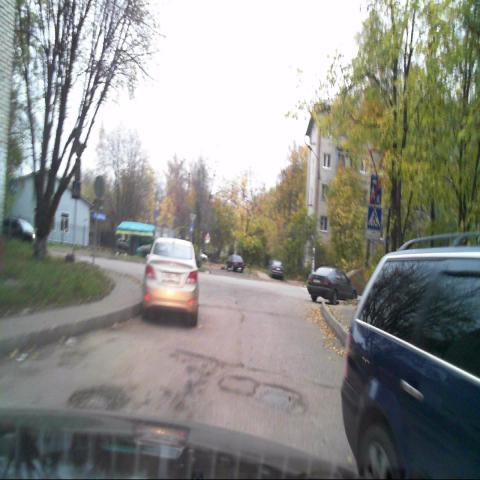2_4: (368, 146, 384, 171)
5_22: (369, 175, 381, 206)
